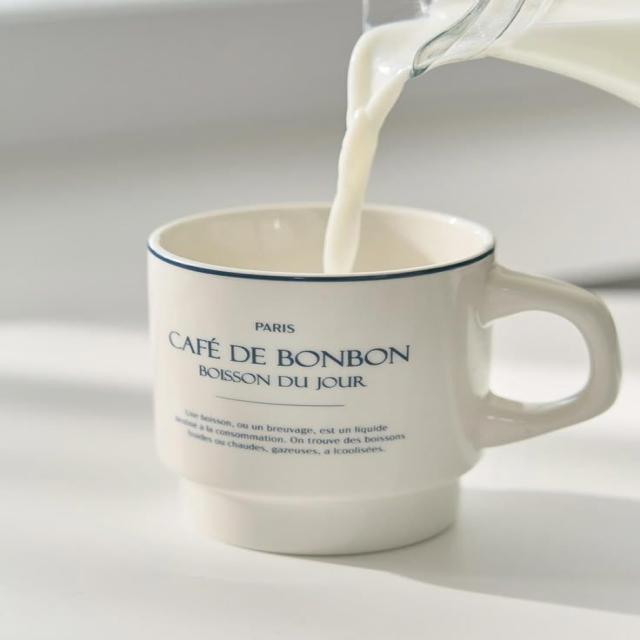glass cup: (149, 202, 617, 556)
